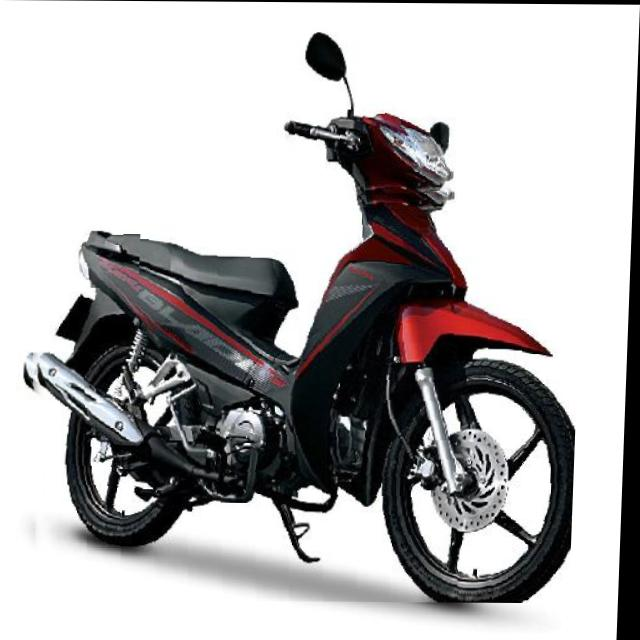All: (16, 106, 588, 602)
Head: (282, 109, 458, 199)
Tail: (71, 220, 143, 289)
